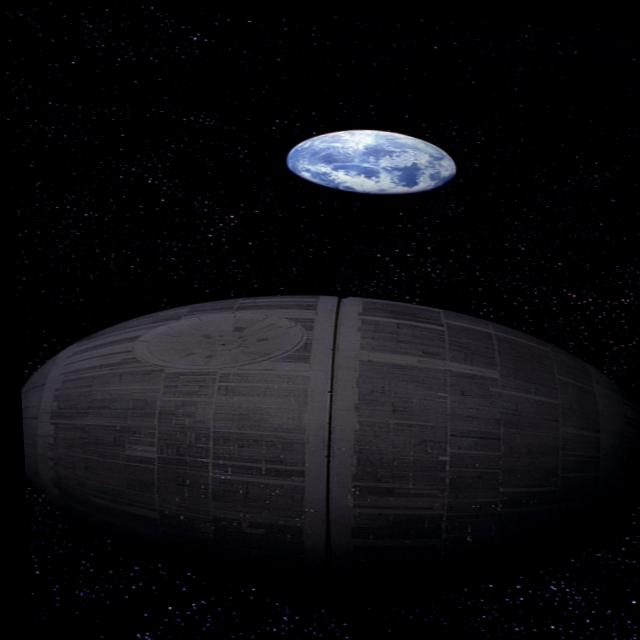deathStar: (12, 283, 640, 565)
